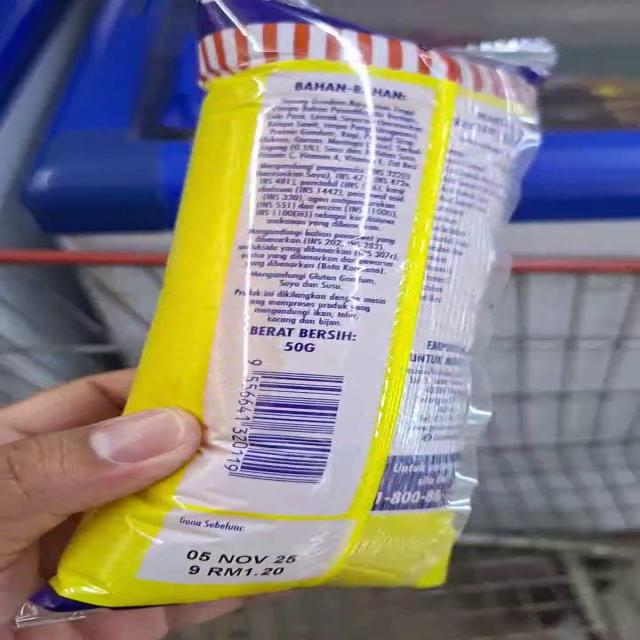Roti: (70, 8, 529, 618)
